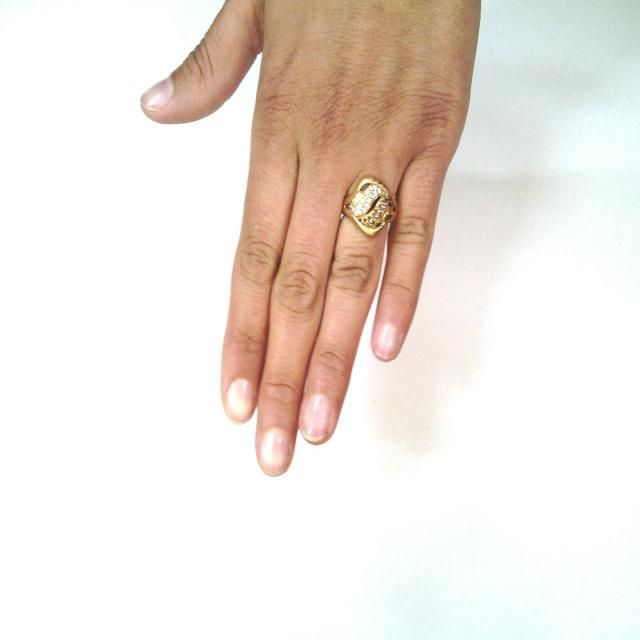others: (136, 1, 509, 497)
